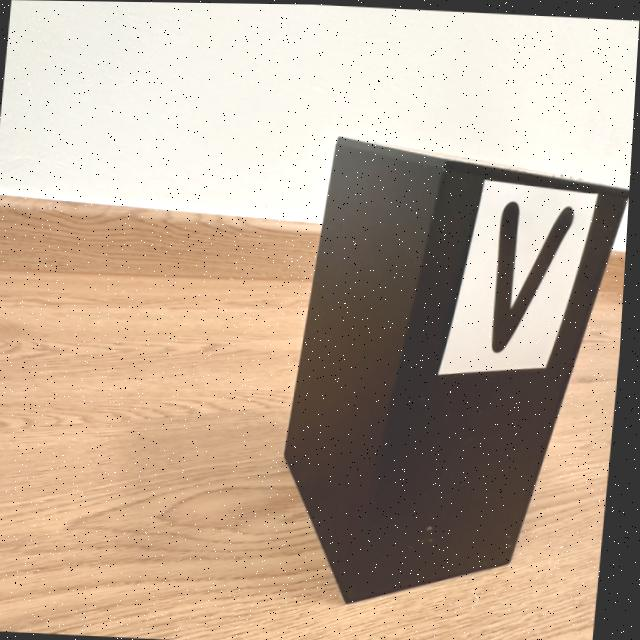V: (495, 200, 576, 351)
